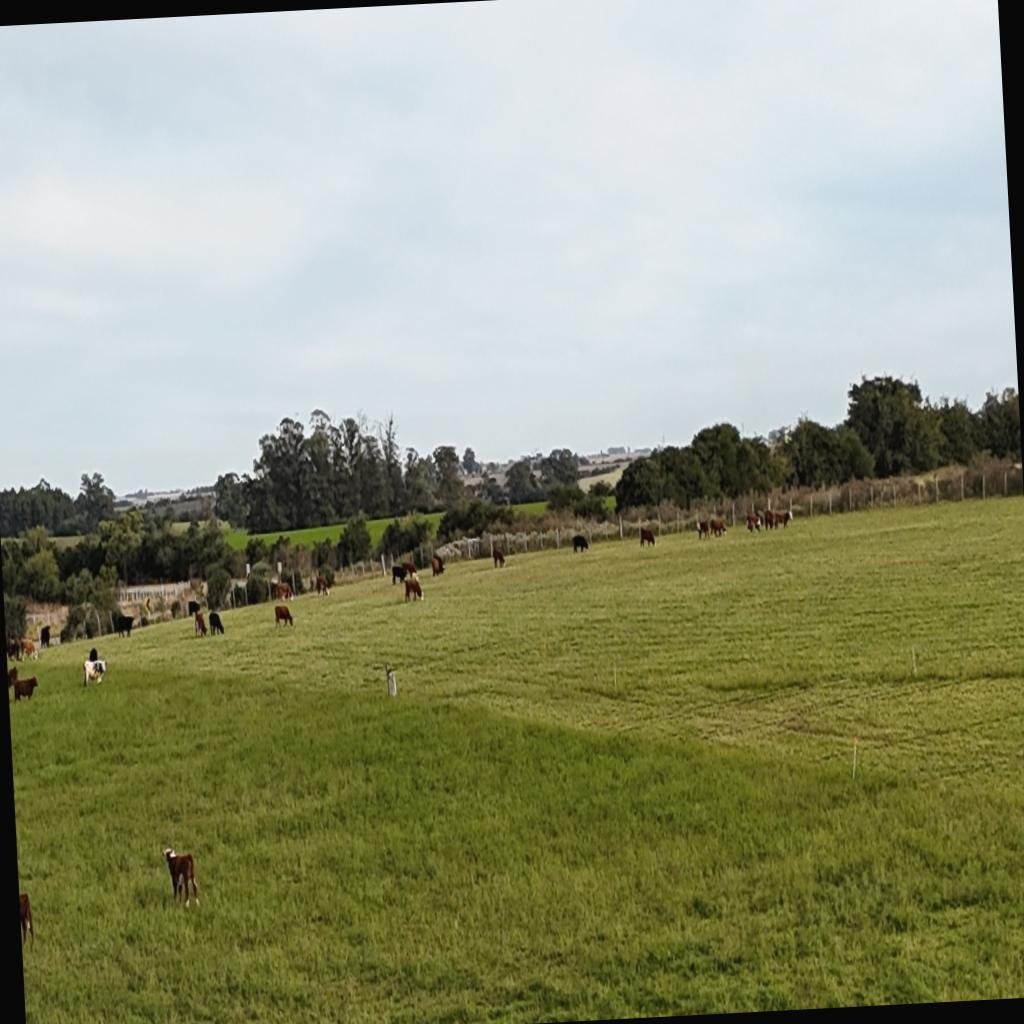cow: (161, 844, 202, 910), (8, 672, 40, 704), (82, 658, 110, 688), (404, 576, 424, 603), (272, 604, 294, 628), (270, 581, 293, 603), (116, 614, 136, 638), (20, 638, 38, 662), (391, 564, 409, 587), (208, 611, 224, 636), (6, 638, 22, 662), (194, 610, 208, 637), (708, 518, 726, 538), (572, 534, 589, 554), (8, 664, 20, 692), (431, 555, 445, 577), (762, 508, 776, 530), (315, 576, 330, 596), (40, 625, 52, 649), (493, 546, 506, 568), (640, 528, 654, 548), (696, 520, 710, 540), (187, 600, 201, 617), (780, 511, 792, 528), (88, 648, 98, 662), (754, 518, 763, 532), (639, 527, 645, 546)
